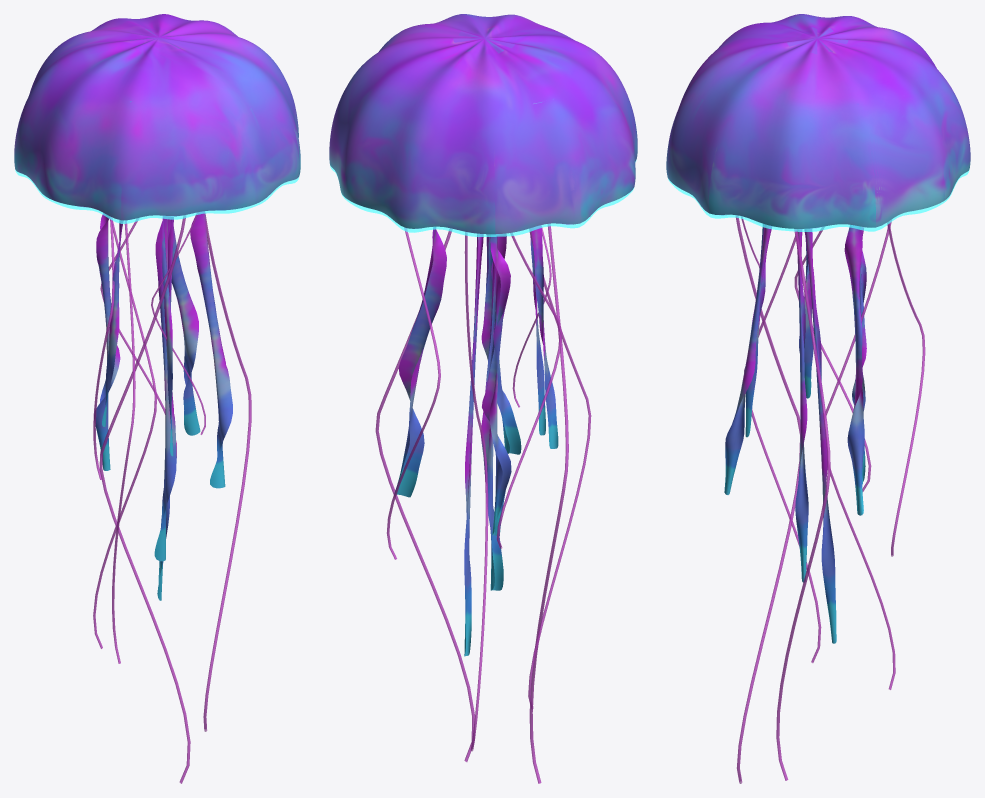
Rendered from jellyfish.fbx.
3 renders of one model, left to right at view 1: azimuth 30°, elevation 25°; view 2: azimuth 150°, elevation 25°; view 3: azimuth 270°, elevation 25°, orthographic. The views are drawn at different scales.
Visible parts, largest first — view 1: jellyfish; view 2: jellyfish; view 3: jellyfish.
Part boxes in pixels (x1,y1,x2,y2): jellyfish: (14,14,300,783); jellyfish: (329,14,637,783); jellyfish: (666,14,970,783).
Bounding box in the file's own units: 144 × 396 × 145.
Materials: 4 (2 with a texture image).
